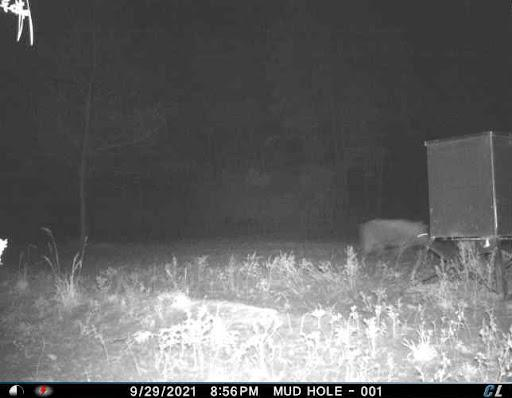Hog: (353, 211, 436, 267)
